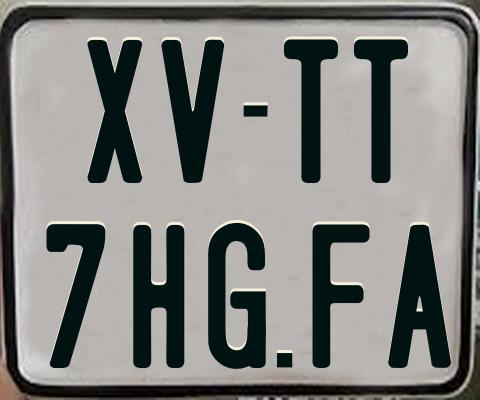7: (46, 221, 107, 369)
A: (386, 223, 449, 371)
F: (310, 224, 374, 371)
G: (206, 223, 269, 373)
H: (130, 223, 185, 368)
T: (351, 38, 411, 182), (282, 38, 339, 187)
V: (159, 40, 227, 184)
X: (85, 37, 144, 183)
